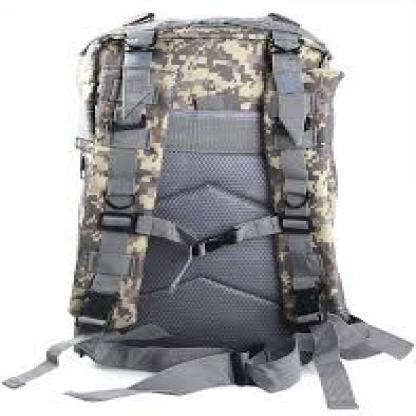morral: (6, 6, 414, 416)
